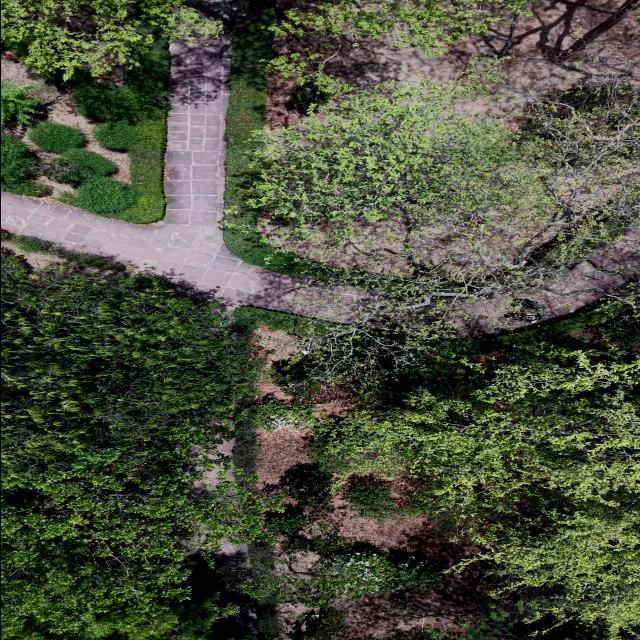DRY_AREA: (1, 37, 308, 314), (329, 0, 639, 121), (328, 0, 639, 94), (308, 491, 487, 639), (1, 54, 130, 183)
PATHWAYS: (1, 38, 368, 321)
VEGETATION_TREE: (231, 0, 639, 637), (228, 21, 639, 637), (236, 76, 639, 637), (238, 79, 639, 637), (229, 57, 638, 376), (226, 0, 638, 315), (275, 285, 639, 637), (308, 289, 639, 634), (230, 65, 638, 330), (1, 253, 281, 639), (1, 258, 281, 638), (246, 80, 638, 281), (395, 347, 639, 631), (247, 83, 556, 259), (236, 282, 639, 405), (225, 464, 442, 637), (225, 465, 442, 635), (1, 34, 169, 223), (224, 0, 328, 278), (222, 512, 443, 637), (268, 0, 528, 92), (40, 41, 169, 223), (516, 81, 639, 264), (1, 0, 222, 79), (228, 536, 441, 607), (274, 0, 527, 54), (225, 0, 276, 226), (81, 596, 251, 639), (387, 599, 544, 639), (313, 551, 441, 599), (115, 596, 250, 639), (119, 115, 167, 223), (1, 135, 82, 197), (119, 119, 166, 223), (3, 231, 122, 272), (343, 476, 426, 520), (74, 82, 166, 121), (58, 176, 136, 215), (74, 82, 142, 121), (235, 307, 327, 335), (344, 479, 405, 519), (127, 42, 169, 100), (555, 302, 631, 333), (281, 465, 331, 507), (285, 607, 348, 639), (1, 135, 36, 192), (253, 399, 312, 432), (272, 359, 319, 399), (29, 121, 86, 153), (1, 82, 40, 124), (40, 158, 98, 186), (62, 148, 116, 175), (601, 315, 639, 351), (92, 121, 139, 150), (253, 601, 285, 638), (265, 512, 310, 534), (200, 620, 250, 639), (3, 180, 51, 197), (11, 236, 52, 252), (3, 252, 29, 277), (1, 230, 12, 239)
